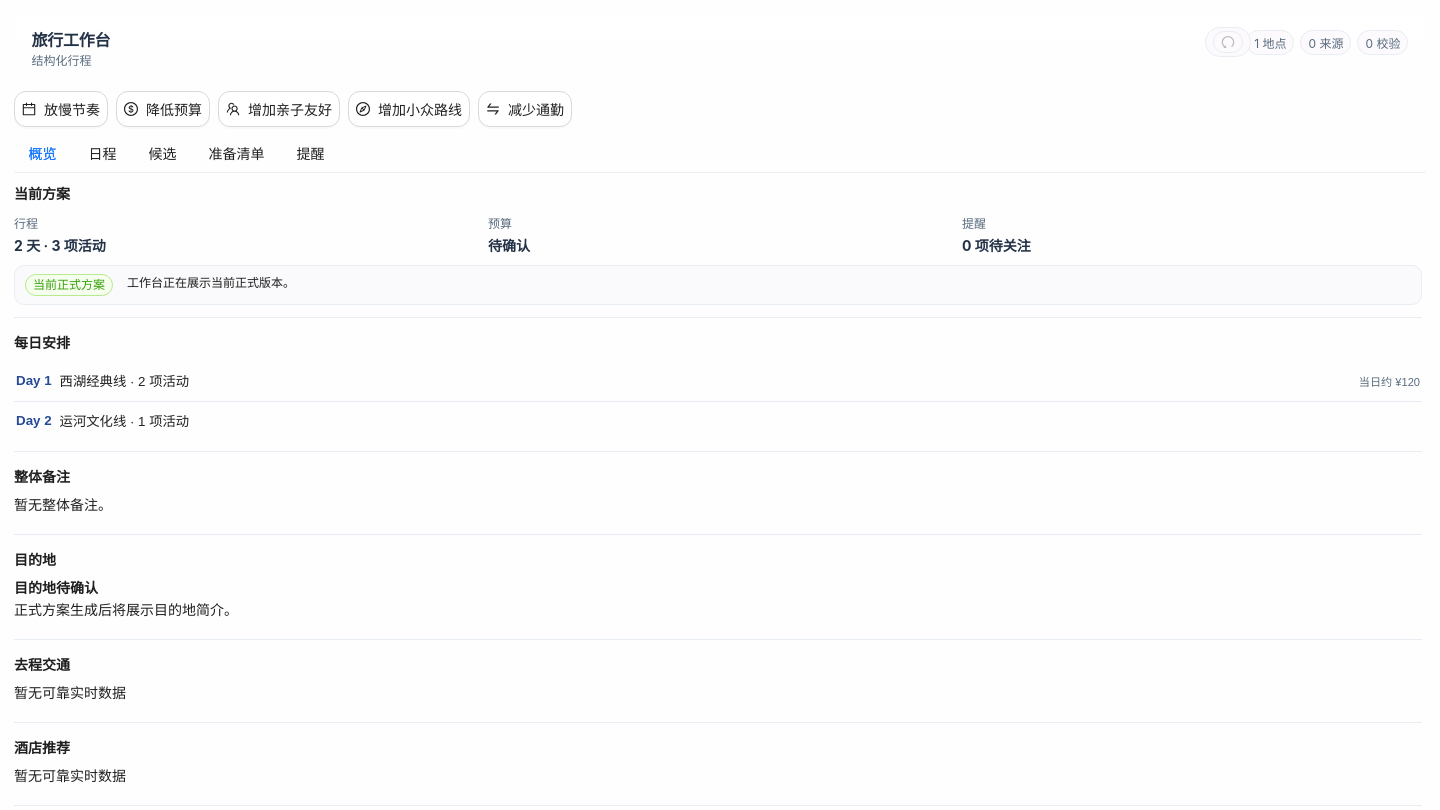
Test: TripWorkspace › renders structured days as date tabs with one-day activity details
Click the tab "日程" at [102, 154], box [88,143,116,165]
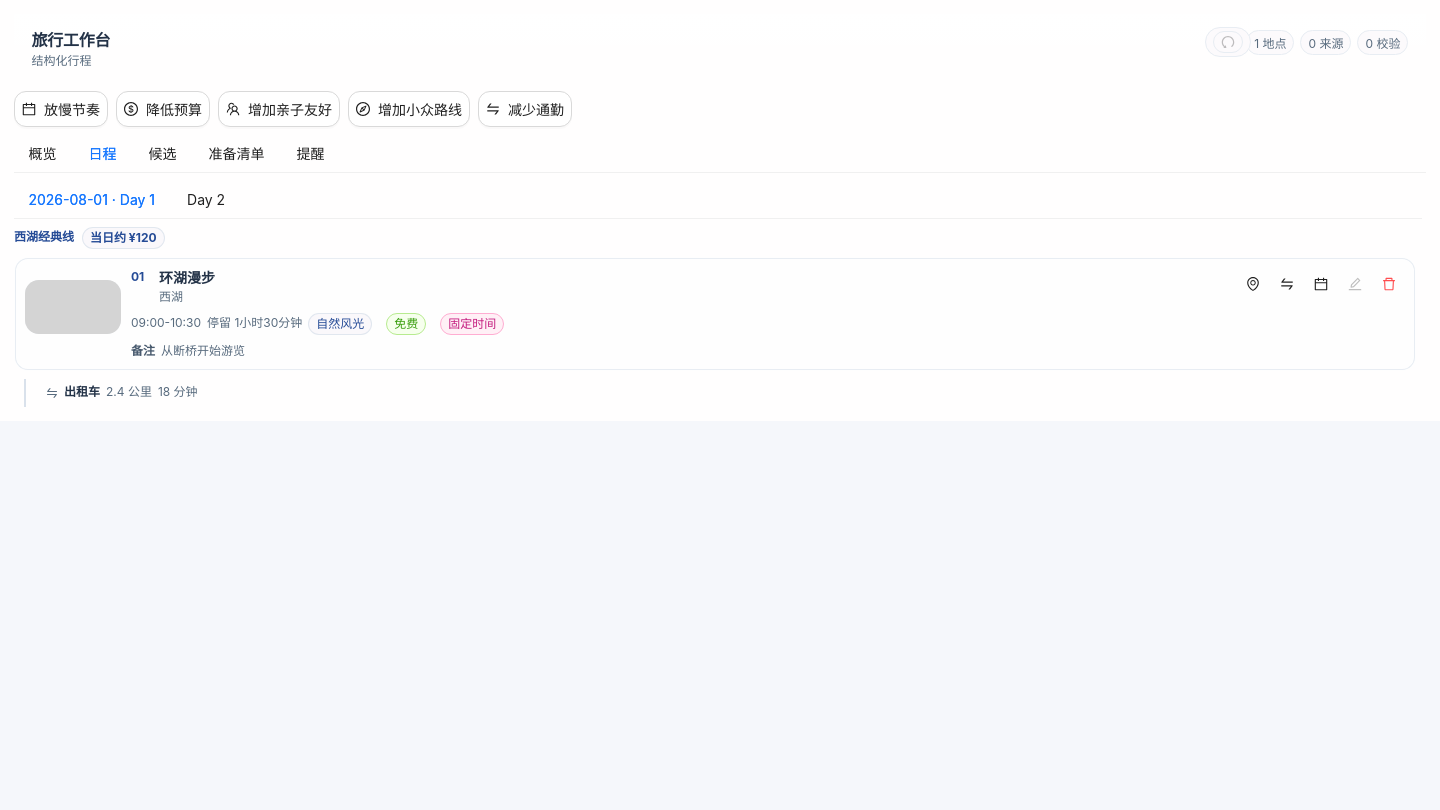
Expected: the tab "2026-08-01 · Day 1" is shown, [28,189,155,211]
Expected: the element named "Day 1 行程" is shown, [14,227,1418,411]
Expected: the text "09:00-10:30" is shown, [131,314,201,333]
Click the tab "Day 2" at [206, 200], box [187,189,225,211]
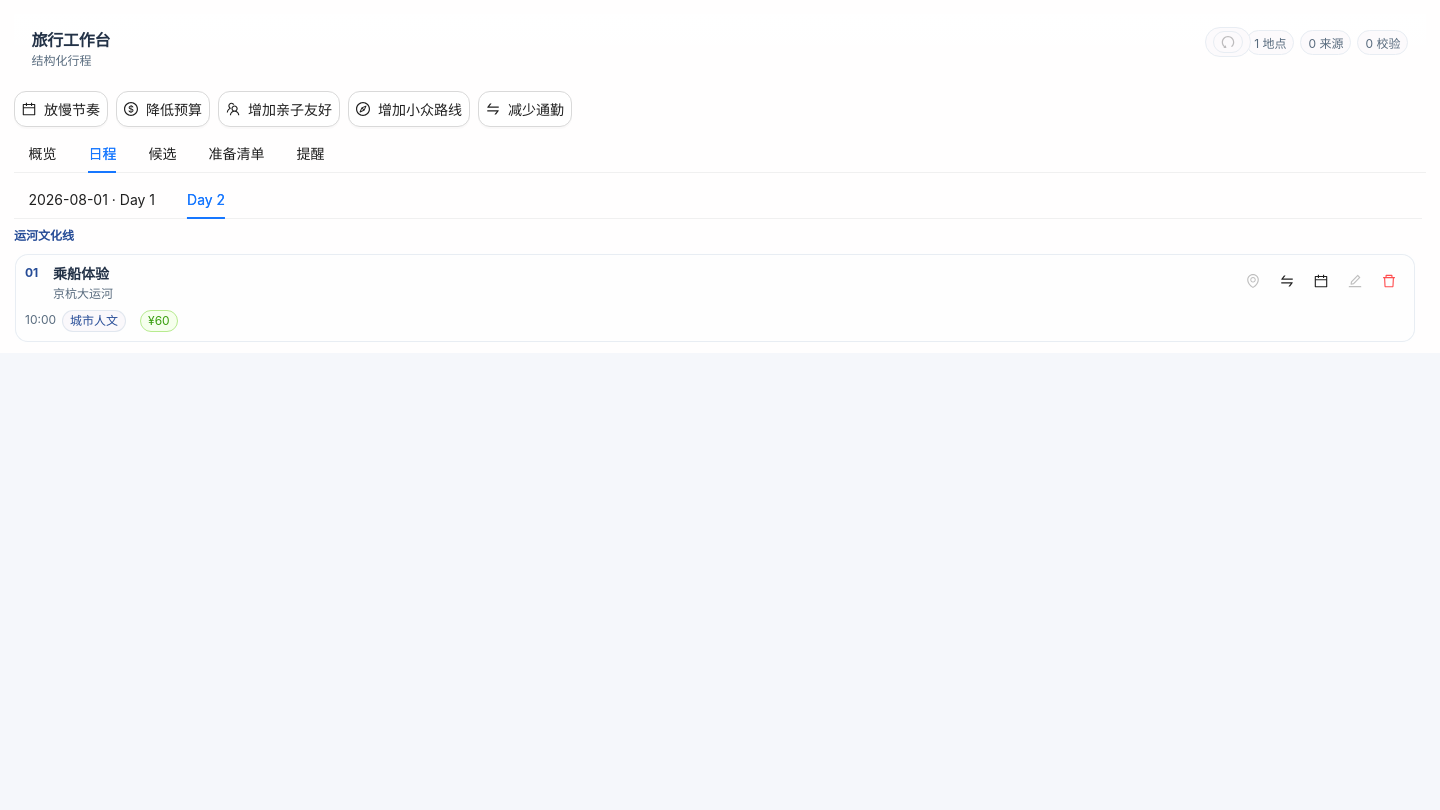
Expected: the element named "Day 2 行程" shows "京杭大运河", [25,264,1227,332]
Expected: the text labelled "Day 2 行程" no longer shows "西湖"
